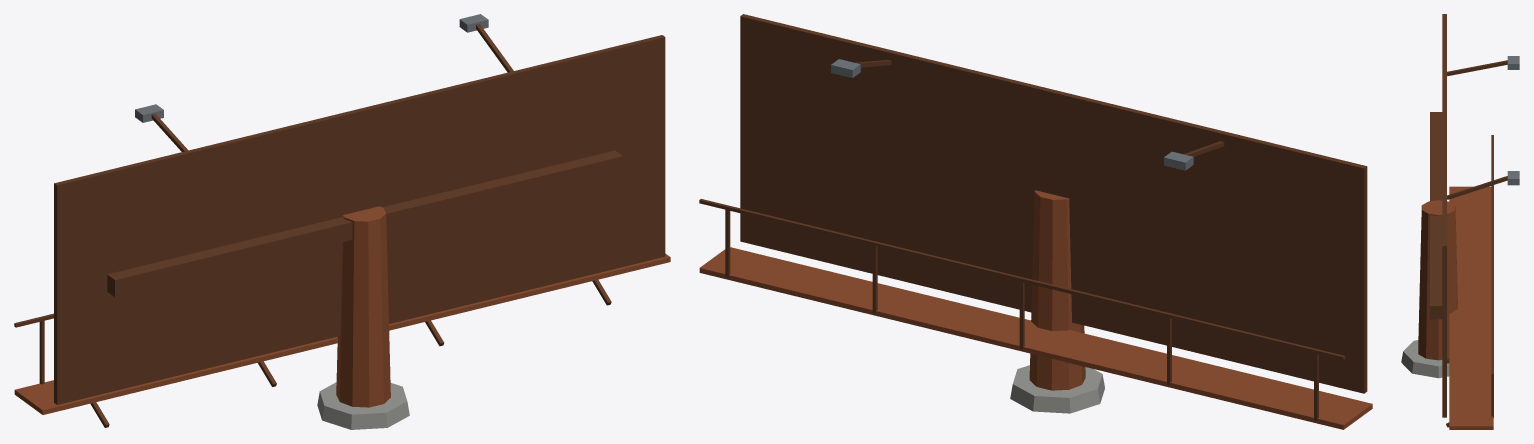
The model's file is billboard_street.glb.
The picture shows the model from 3 angles, left to right: view 1: azimuth 30°, elevation 25°; view 2: azimuth 150°, elevation 25°; view 3: azimuth 270°, elevation 25°; orthographic projection. The views are drawn at different scales.
Visible parts, largest first — view 1: billboard_street; view 2: billboard_street; view 3: billboard_street.
Boxes of the visible parts, x1=… form: billboard_street: x1=14, y1=14, x2=670, y2=429; billboard_street: x1=699, y1=14, x2=1372, y2=429; billboard_street: x1=1401, y1=14, x2=1519, y2=429.
Bounding box in the file's own units: 8.32 × 4.02 × 1.74.
3 materials, 3 textured.
